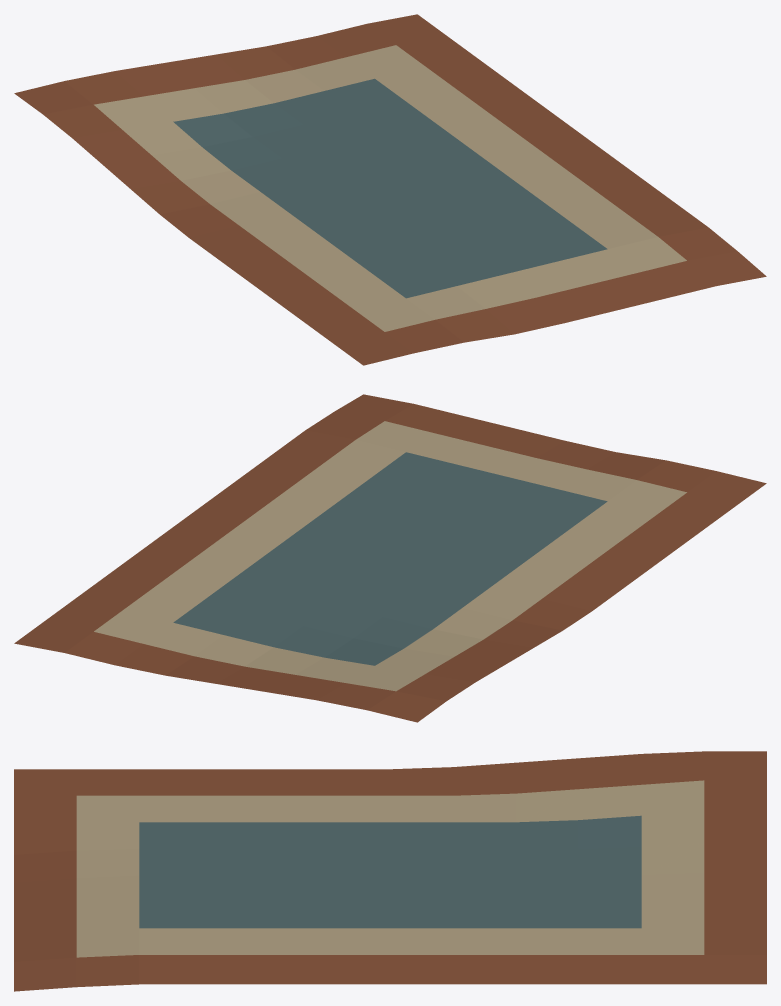
File: home_Rug_living.glb
The picture shows the model from 3 angles, top to bottom: view 1: azimuth 30°, elevation 25°; view 2: azimuth 150°, elevation 25°; view 3: azimuth 270°, elevation 25°; orthographic projection. The views are drawn at different scales.
Visible parts, largest first — view 1: home_Rug_living; view 2: home_Rug_living; view 3: home_Rug_living.
Boxes of the visible parts, box(x1,y1,x2,y2) form: home_Rug_living: box(14, 14, 766, 365); home_Rug_living: box(14, 394, 766, 722); home_Rug_living: box(14, 751, 766, 991).
Size of the model in its own units: 2 by 0.1231 by 3.
